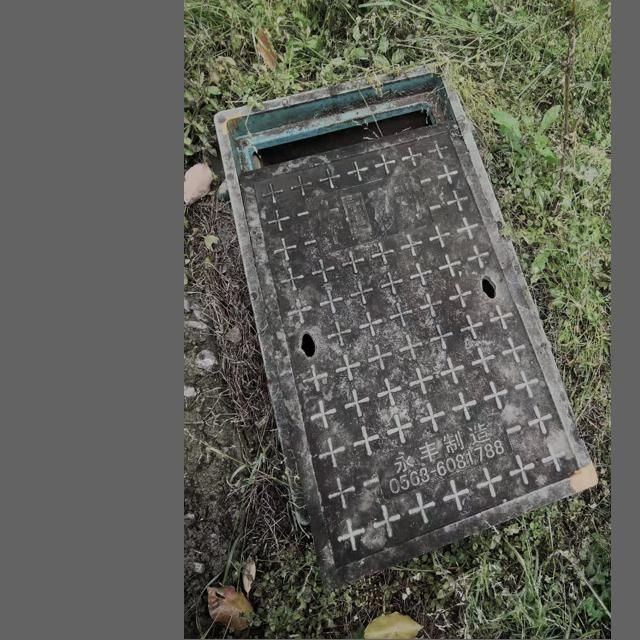uncovered: (213, 57, 596, 587)
